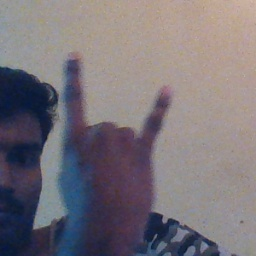V: (57, 46, 179, 227)
